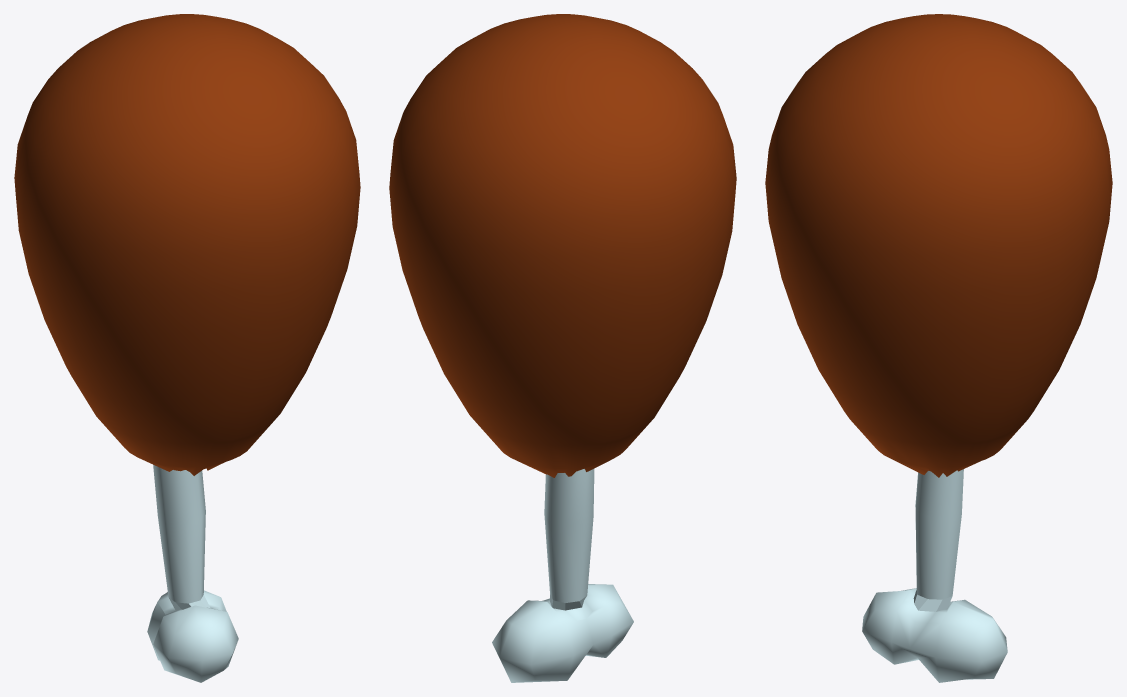
Rendered from ChickenLeg.fbx.
The picture shows the model from 3 angles, left to right: view 1: azimuth 30°, elevation 25°; view 2: azimuth 150°, elevation 25°; view 3: azimuth 270°, elevation 25°; orthographic projection.
Visible parts, largest first — view 1: Sphere001, Object013; view 2: Sphere001, Object013; view 3: Sphere001, Object013.
Boxes of the visible parts, bbox=[...] form: Sphere001: bbox=[14, 14, 360, 475]; Object013: bbox=[147, 464, 238, 682]; Sphere001: bbox=[389, 14, 736, 477]; Object013: bbox=[492, 469, 633, 682]; Sphere001: bbox=[765, 14, 1112, 477]; Object013: bbox=[862, 469, 1007, 682].
Size of the model in its own units: 0.5133 by 1.05 by 0.5133.
